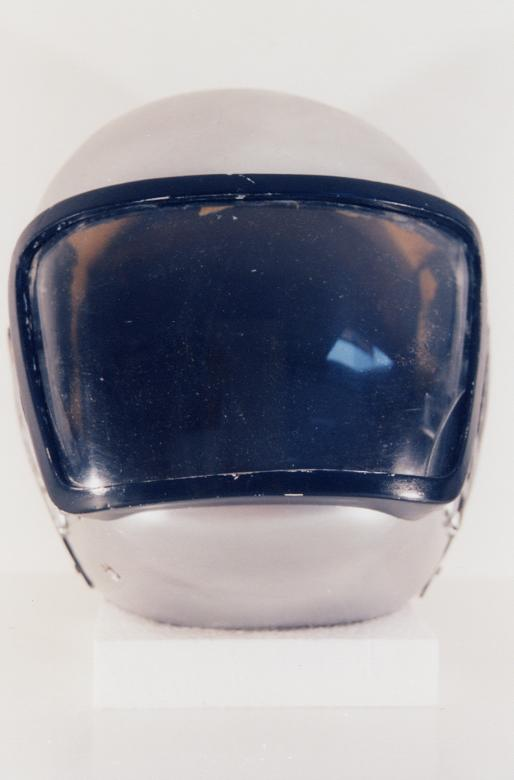helmet: (19, 70, 497, 635)
